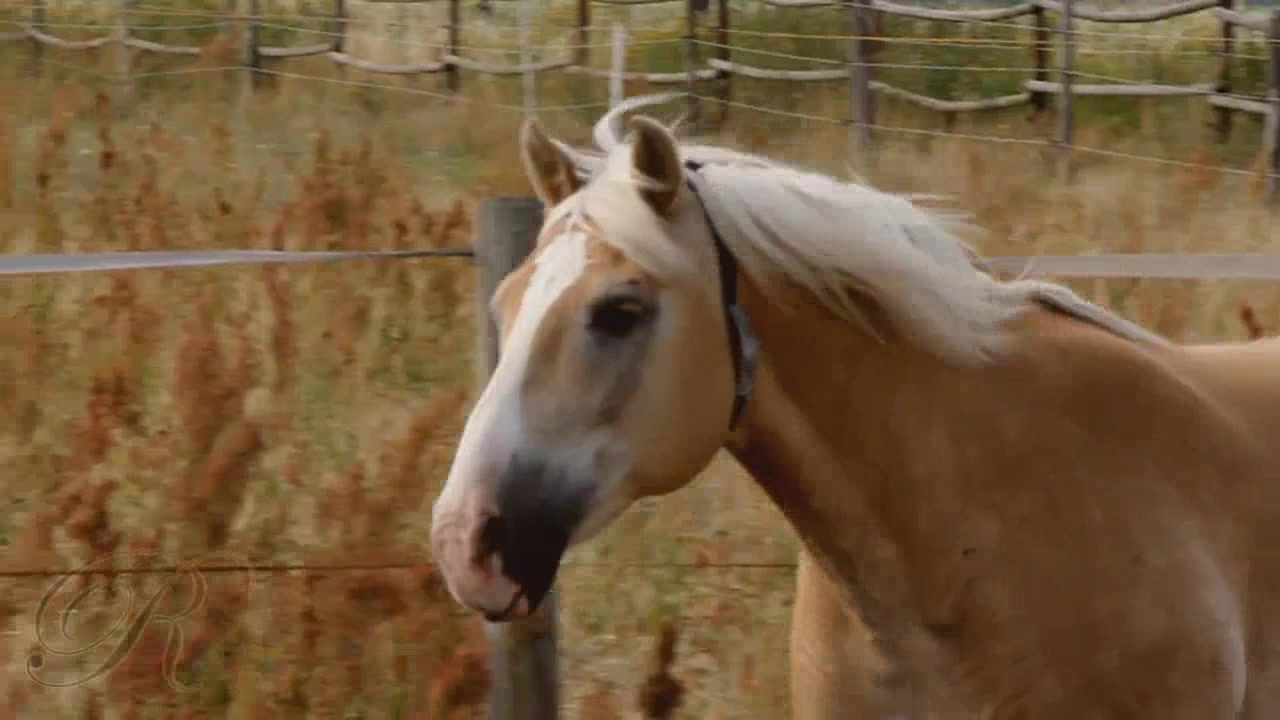horse: (426, 93, 1279, 720)
